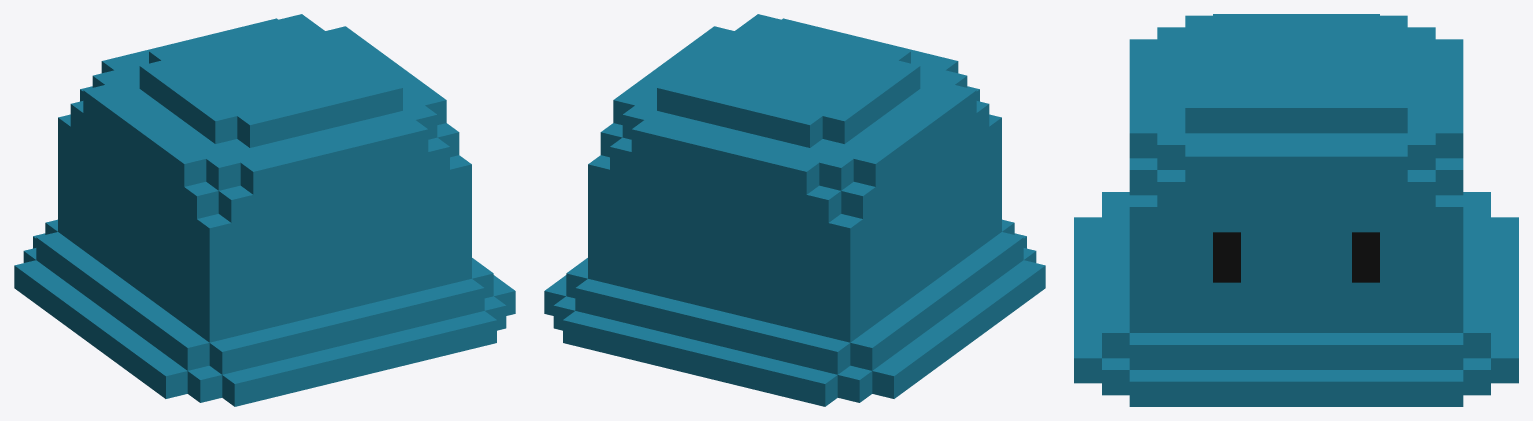
The model's file is slime2.obj.
3 views of the same model, side by side, from view 1: azimuth 30°, elevation 25°; view 2: azimuth 150°, elevation 25°; view 3: azimuth 270°, elevation 25° (orthographic). The views are drawn at different scales.
Bounding box in the file's own units: 1.6 × 1 × 1.6.
Materials: 1 (1 with a texture image).
